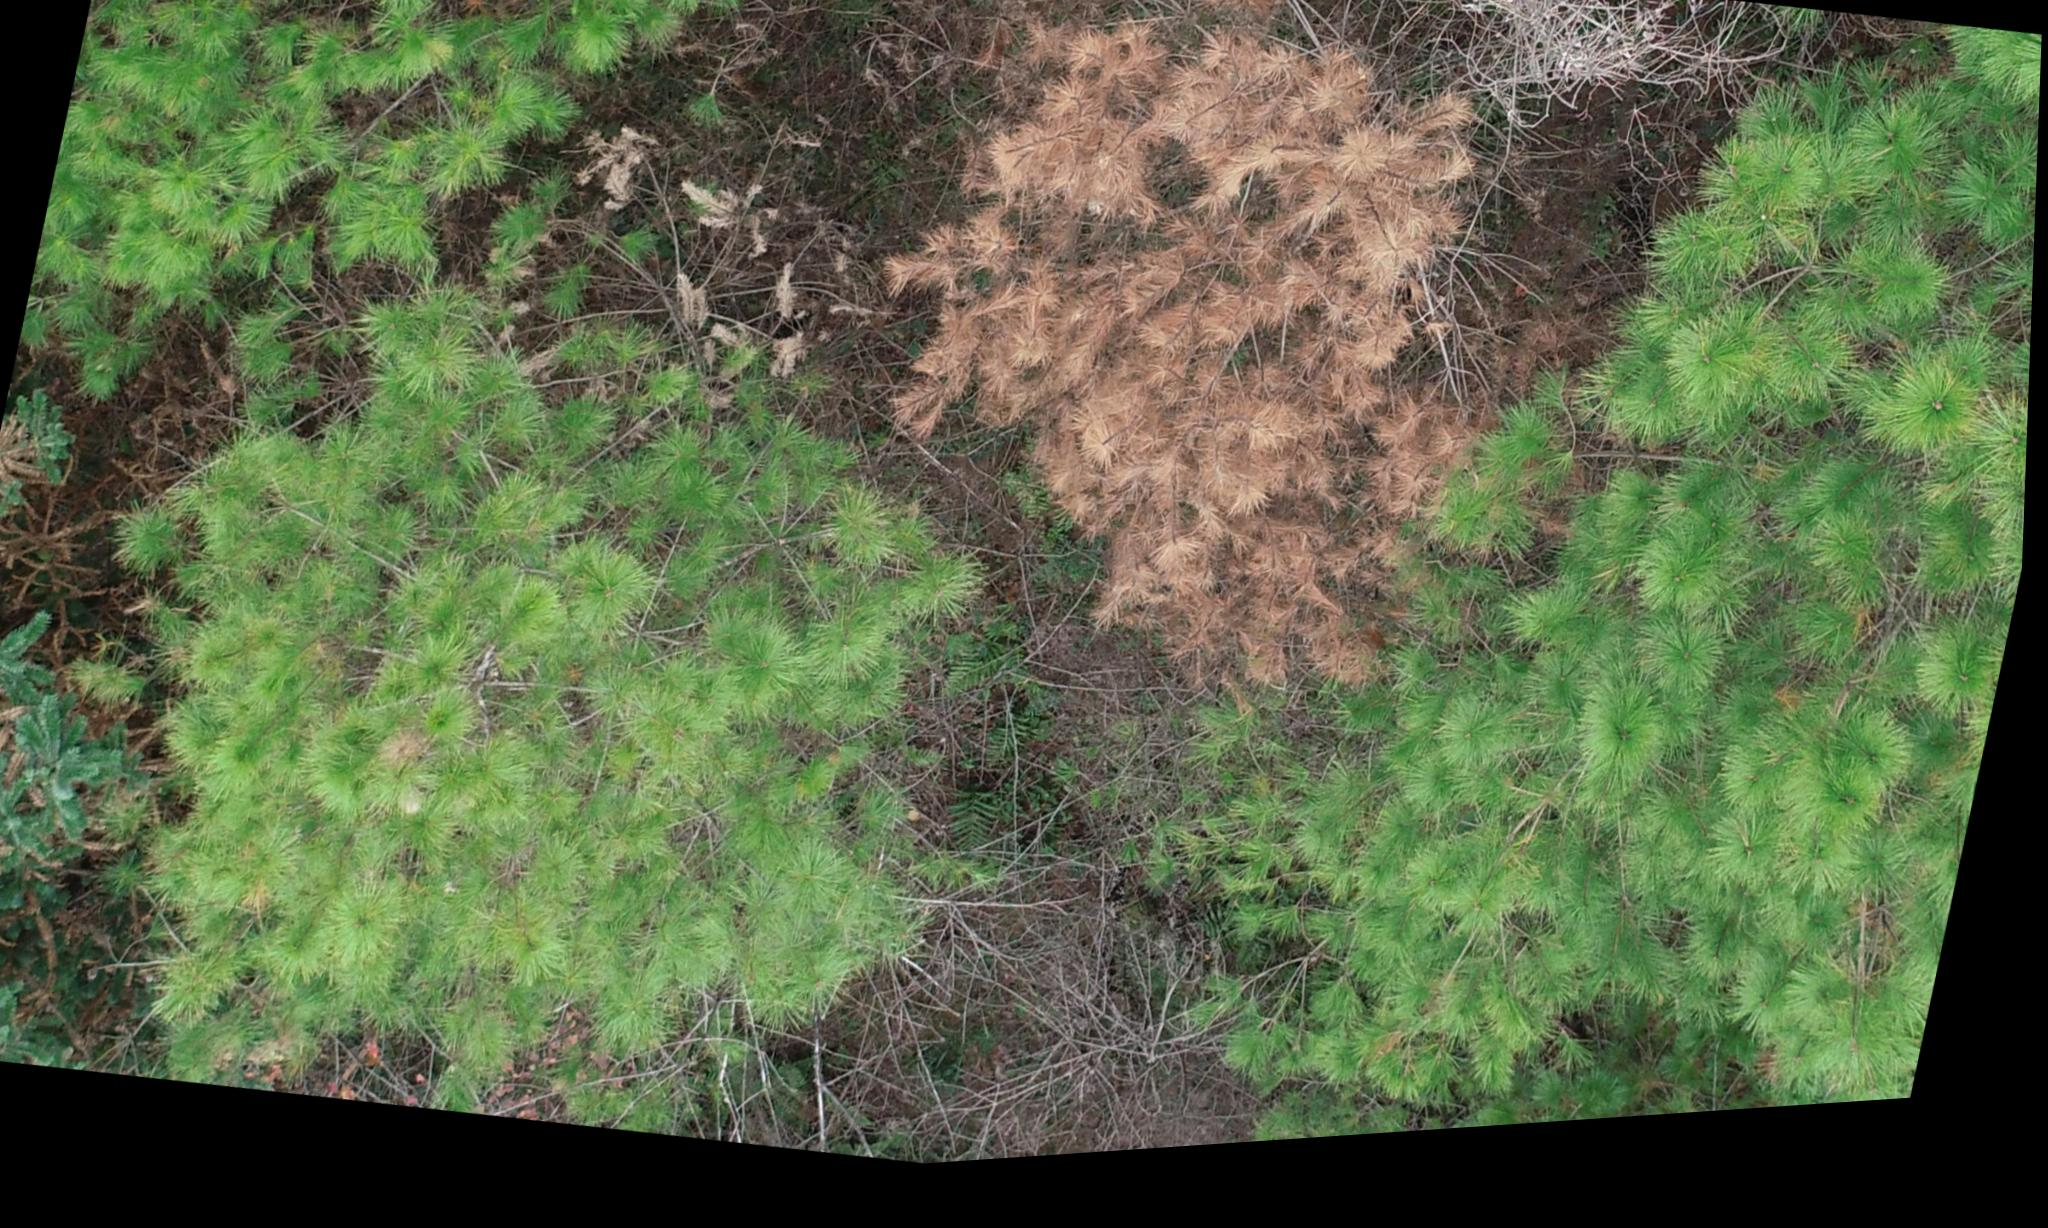dead: (1427, 0, 1757, 156)
heavy: (849, 0, 1563, 728)
